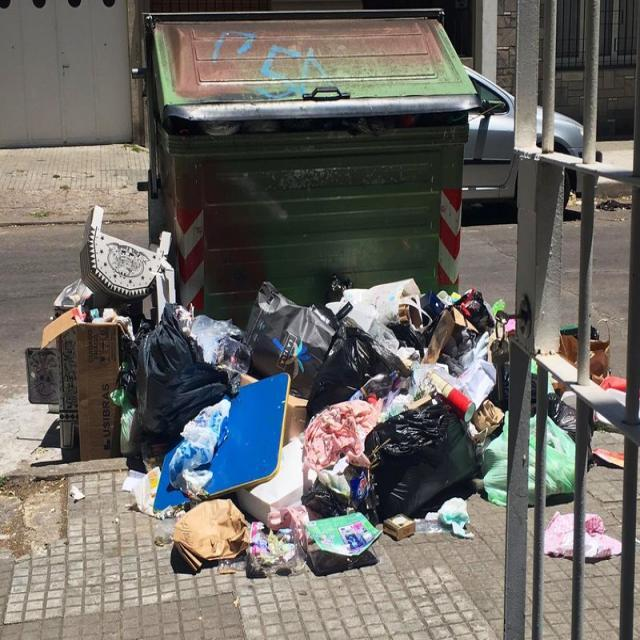garbage: (23, 204, 639, 580)
